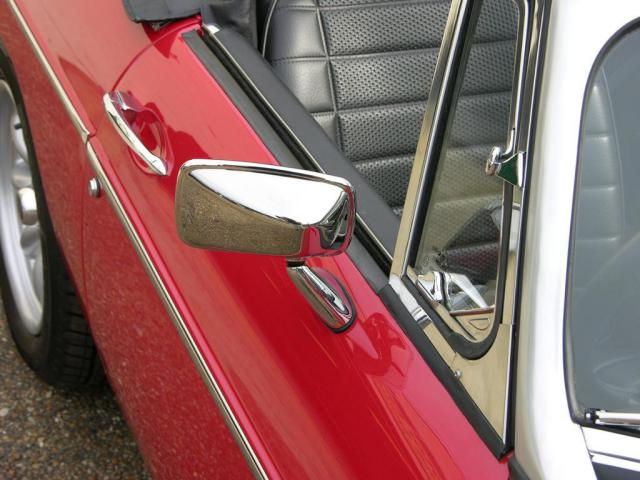Door-handle: (96, 88, 168, 176)
